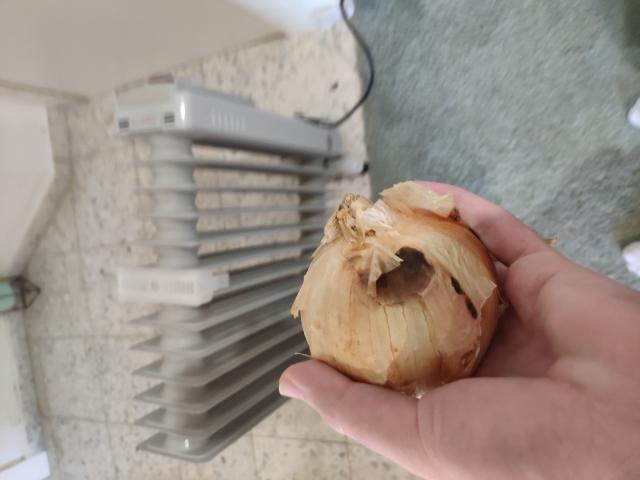onion: (291, 208, 536, 399)
